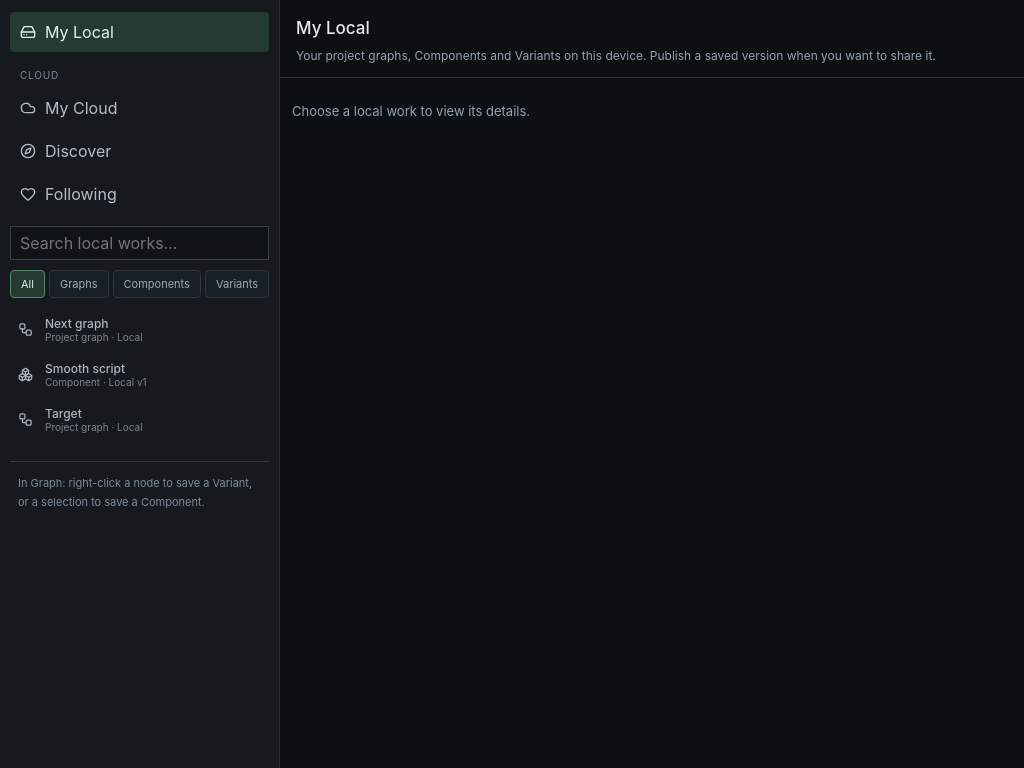
Test: switching graphs hides old graph actions while the newly selected graph loads
Click the button "Target Project graph · Local" at (140, 420), box [10, 398, 269, 441]
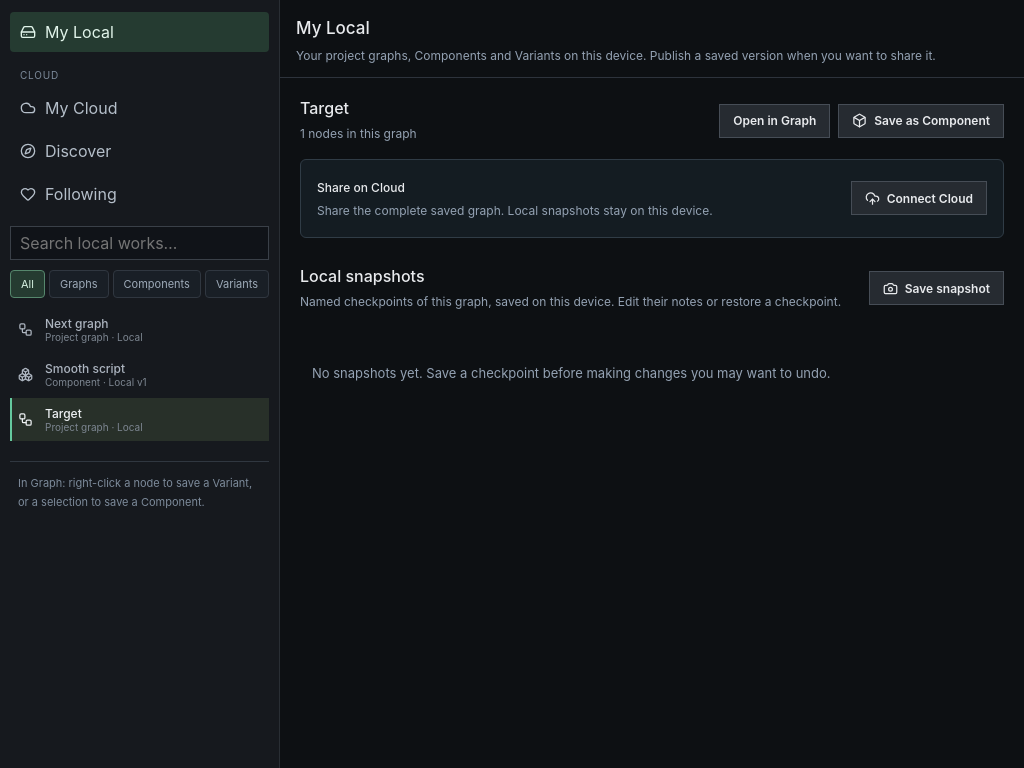
Now the button "Open in Graph" is shown, box [719, 104, 830, 138]
Click the button "Next graph Project graph · Local" at (140, 330), box [10, 308, 269, 351]
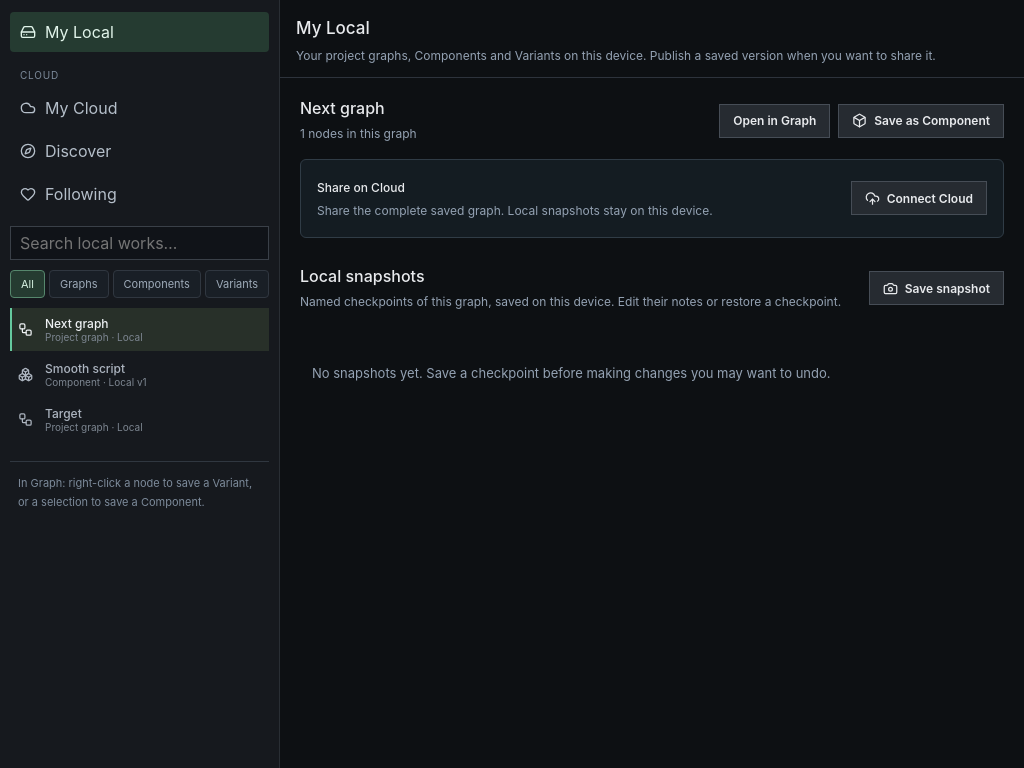
Now the button "Open in Graph" is shown, box [719, 104, 830, 138]
Now the heading "Next graph" is shown, box [300, 98, 385, 118]
